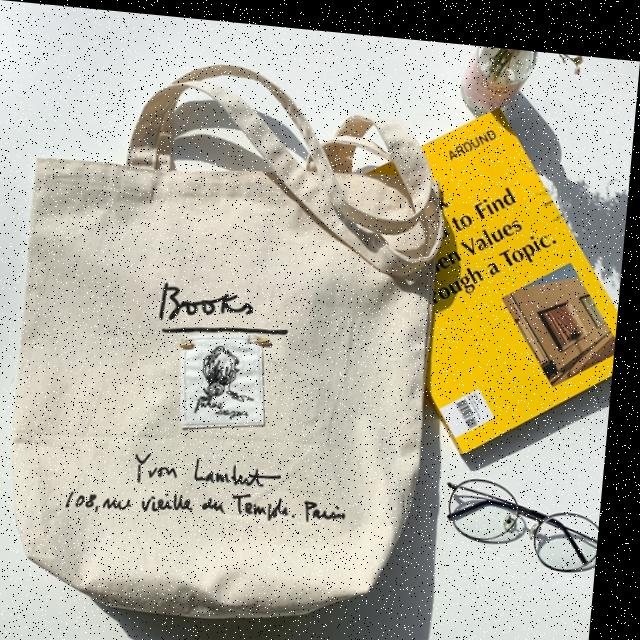ecobag: (0, 50, 460, 638)
